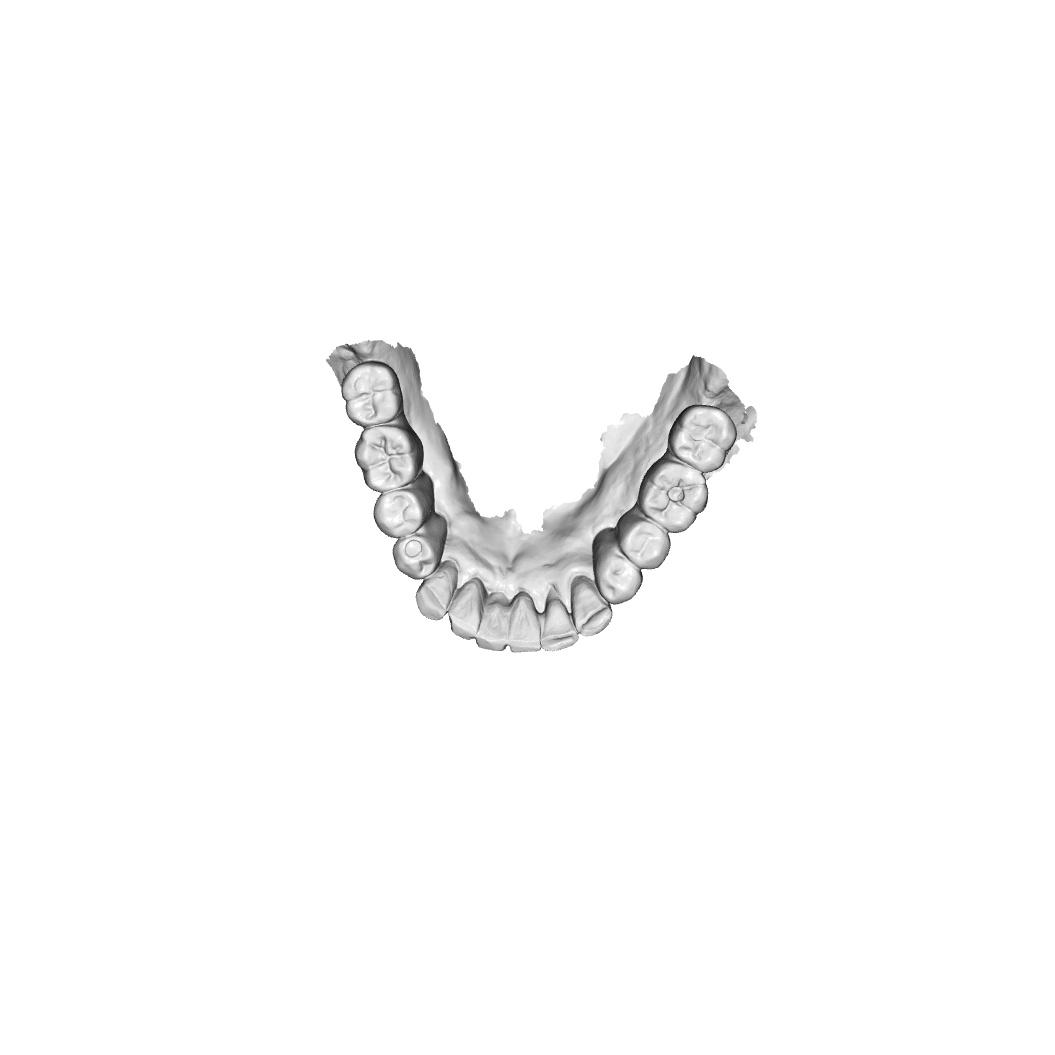canine: (414, 559, 460, 622), (570, 574, 614, 638)
incisor: (448, 577, 488, 641), (540, 596, 580, 652), (508, 590, 541, 655), (475, 591, 509, 651)
molar: (638, 456, 710, 534), (667, 404, 738, 474), (354, 424, 425, 492), (341, 360, 404, 427)
premolar: (372, 470, 436, 539), (591, 526, 644, 606), (392, 513, 448, 581), (616, 506, 671, 571)
